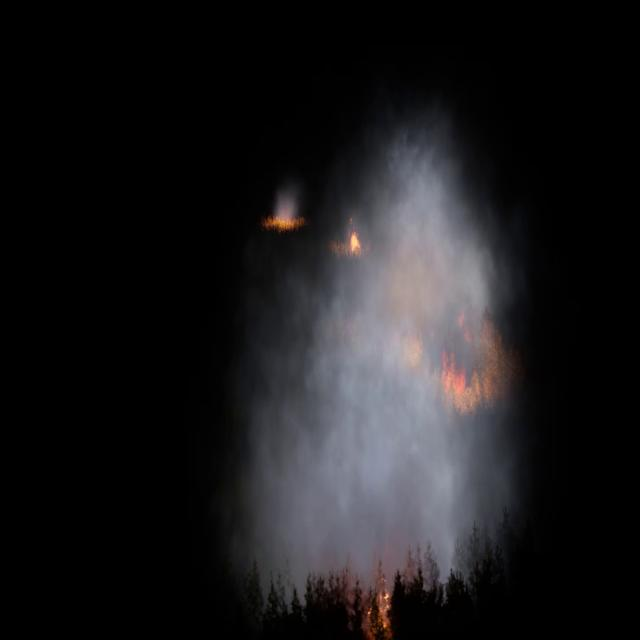fire: (439, 349, 468, 394)
smoke: (231, 100, 522, 618), (274, 177, 304, 223)
